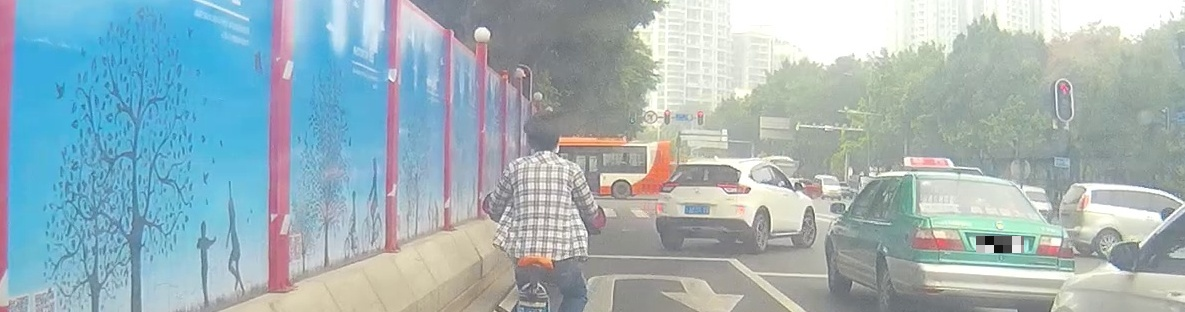L_light: (912, 227, 965, 252), (658, 182, 679, 192)
R_light: (1036, 235, 1073, 260), (716, 183, 751, 194)
T_light: (980, 207, 1010, 216), (694, 164, 711, 169)
day-no: (905, 172, 1075, 312), (656, 156, 752, 254)
plate_1: (976, 236, 1024, 253)
